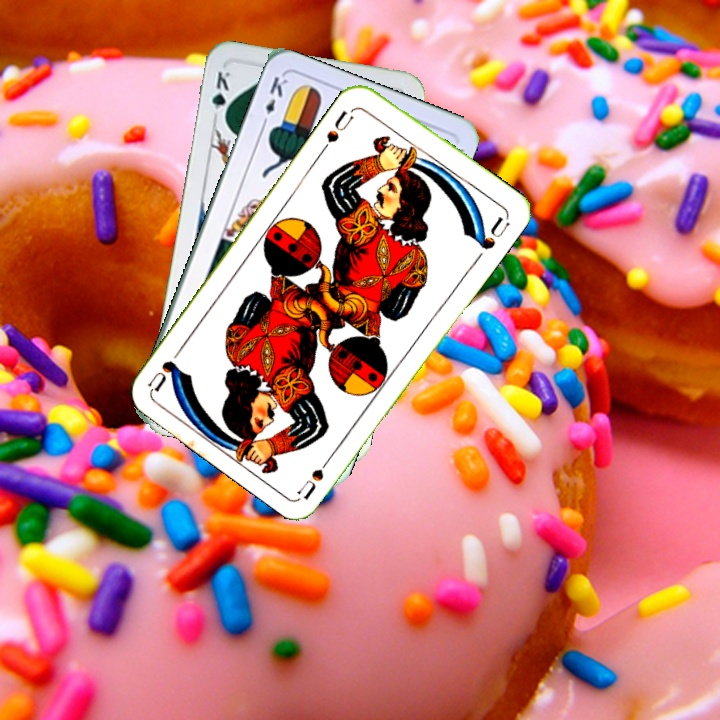EK: (258, 72, 291, 130)
GK: (208, 67, 233, 125)
SU: (295, 447, 338, 501), (317, 104, 359, 154)
